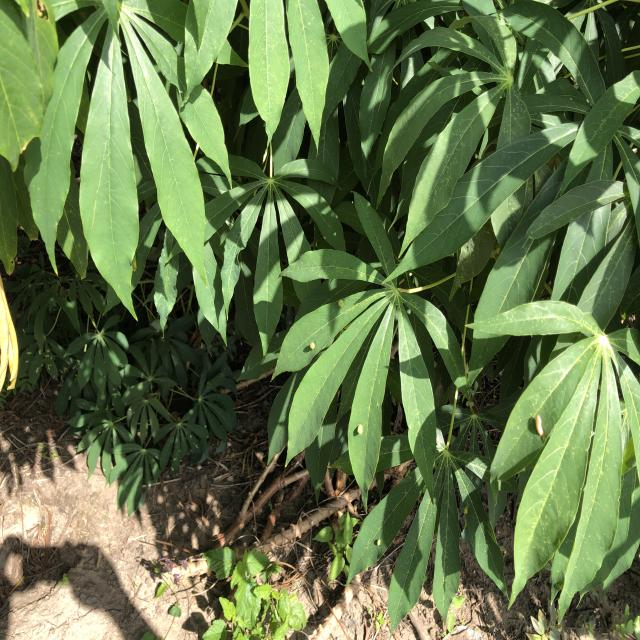Mosca: (532, 407, 551, 439), (305, 336, 324, 352), (353, 422, 371, 436), (370, 534, 384, 551)
